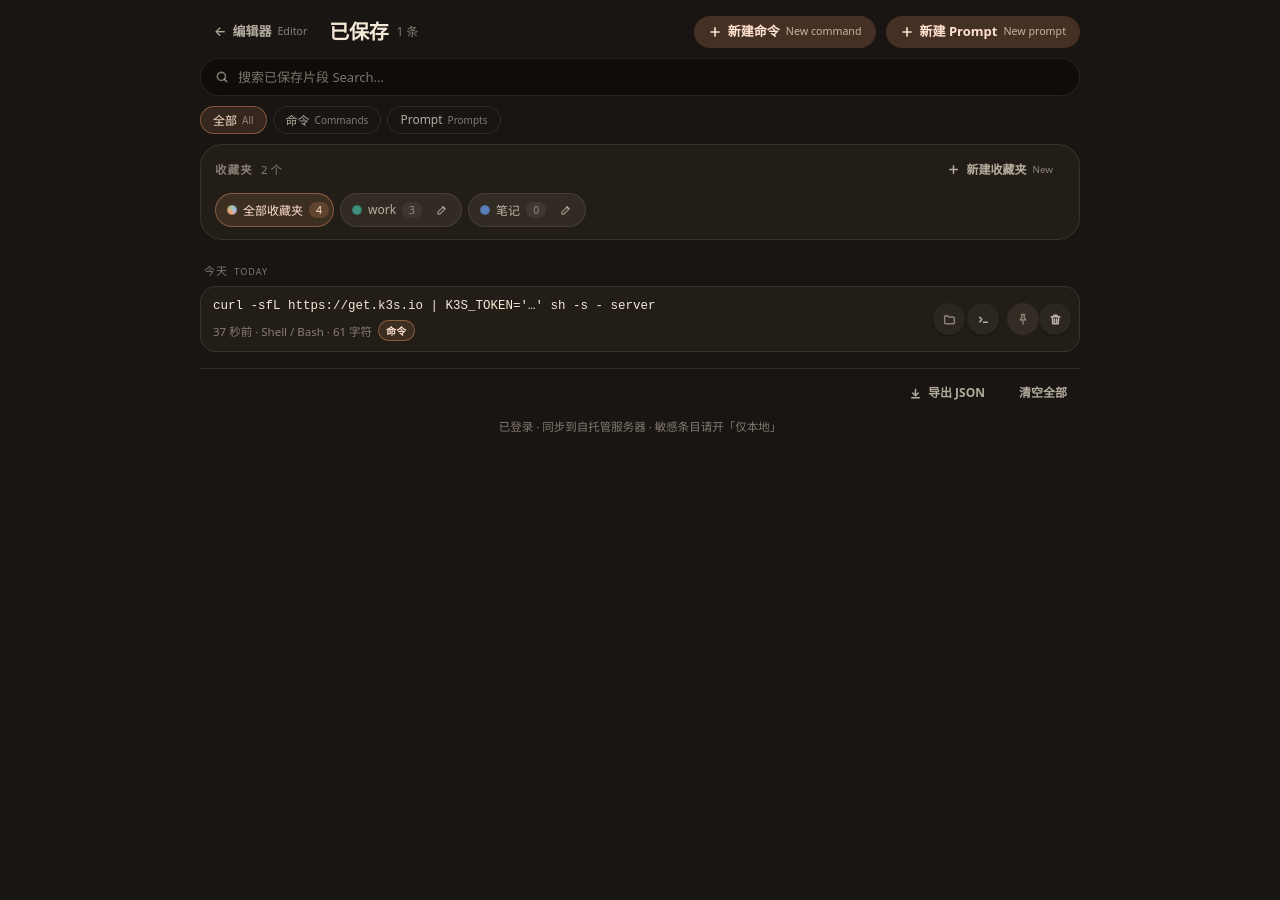
Test: SavedPage（收藏夹管理，云端模式） › 新建收藏夹：名称为空时不发请求，就地提示
Click the button "新建收藏夹 New".
click(1000, 170)  # box [935, 157, 1065, 183]
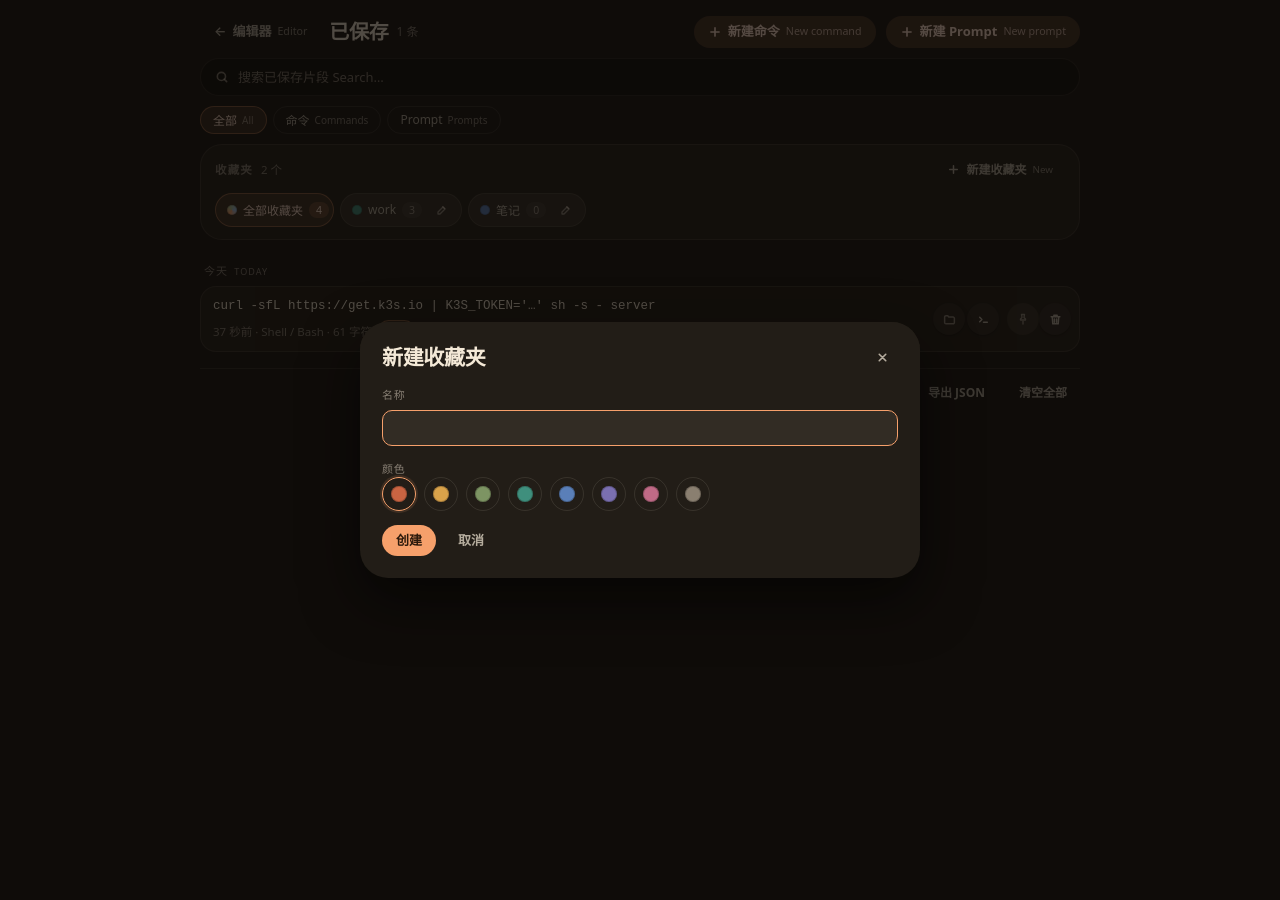
Click the button "创建".
click(409, 541)  # box [382, 525, 436, 556]
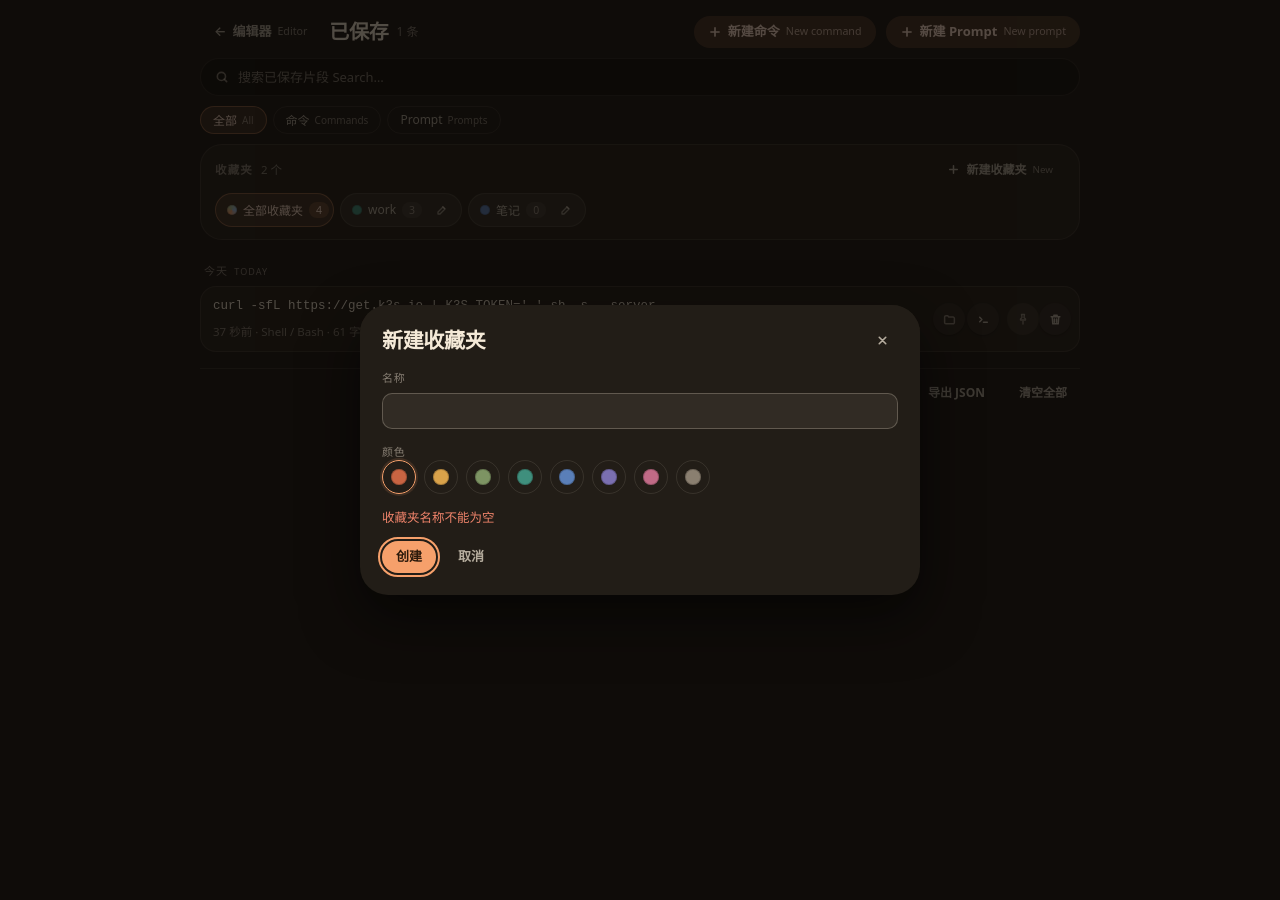
Expected: the message reads "收藏夹名称不能为空", [382, 509, 494, 526]
